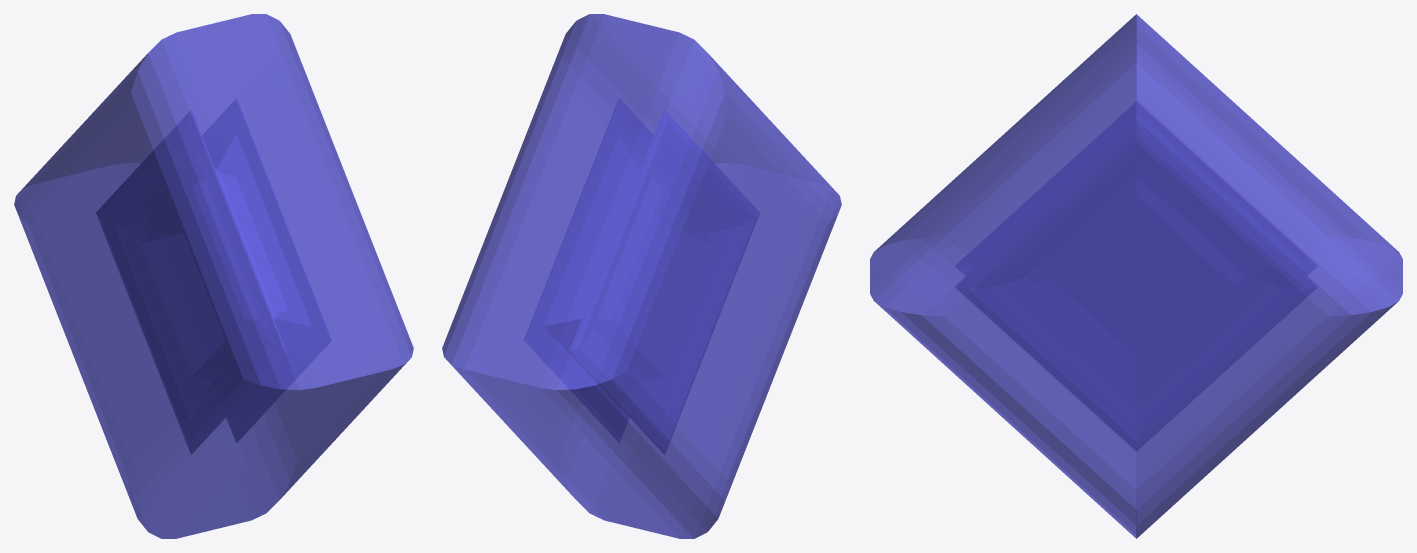
The model's file is crystal.fbx.
3 renders of one model, left to right at view 1: azimuth 30°, elevation 25°; view 2: azimuth 150°, elevation 25°; view 3: azimuth 270°, elevation 25°, orthographic. The views are drawn at different scales.
Visible parts, largest first — view 1: Cube; view 2: Cube; view 3: Cube.
Boxes of the visible parts, x1,y1,x2,y2 form: Cube: (14,14,413,538); Cube: (442,14,841,538); Cube: (870,14,1402,538).
Bounding box in the file's own units: 100 × 283 × 283.
